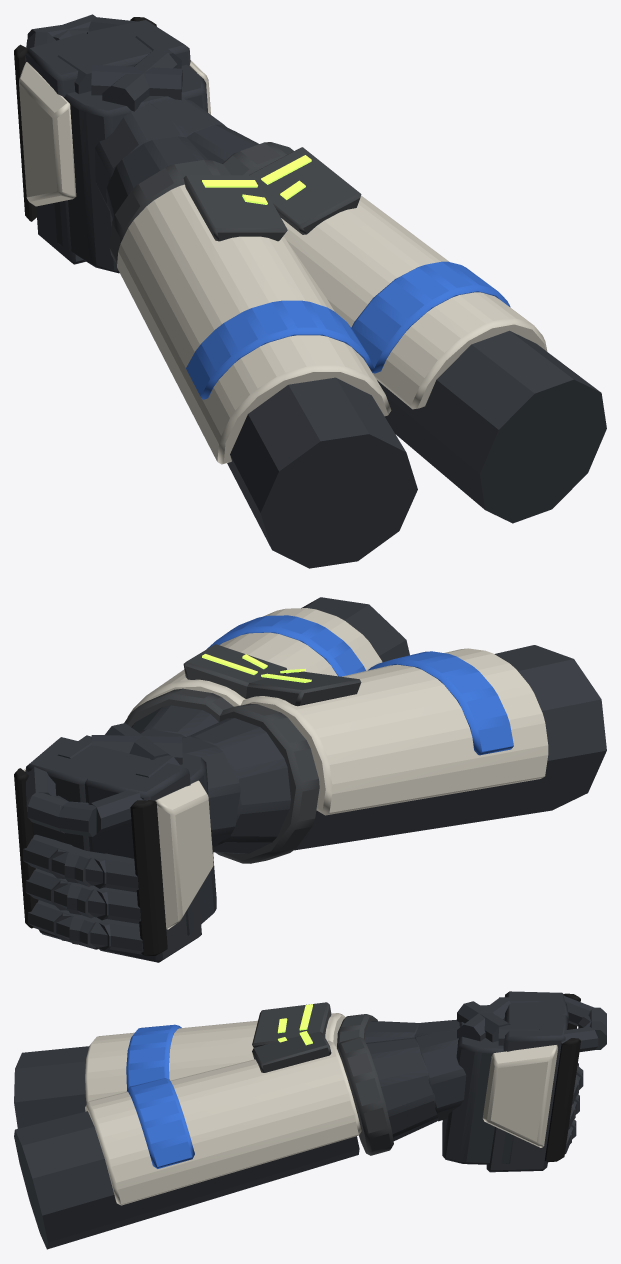
The model's file is arms_fp.glb.
The picture shows the model from 3 angles, top to bottom: view 1: azimuth 30°, elevation 25°; view 2: azimuth 150°, elevation 25°; view 3: azimuth 270°, elevation 25°; orthographic projection. The views are drawn at different scales.
Visible parts, largest first — view 1: arm_l, arm_r; view 2: arm_l, arm_r; view 3: arm_r, arm_l.
Boxes of the visible parts, x1,y1,x2,y2 form: arm_l: (14, 25, 417, 568); arm_r: (52, 14, 606, 523); arm_l: (48, 645, 606, 962); arm_r: (14, 597, 409, 950); arm_r: (14, 996, 606, 1249); arm_l: (14, 991, 606, 1143).
Size of the model in its own units: 0.2394 by 0.1697 by 0.4722.
